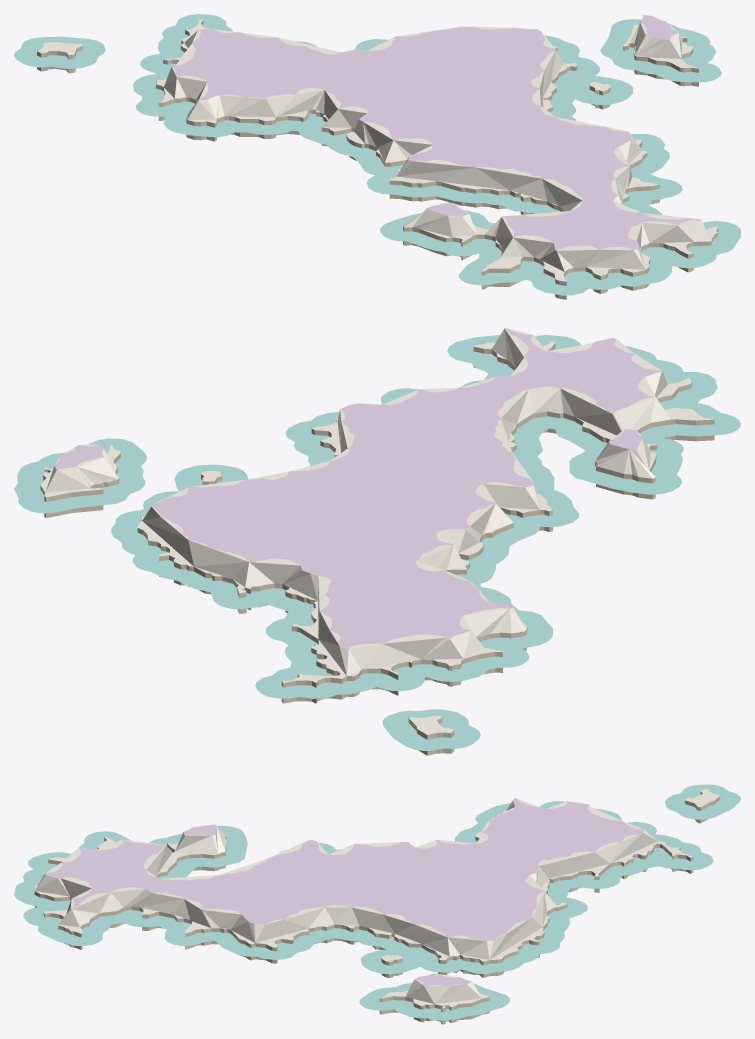
Rendered from mayotte.glb.
3 views of the same model, one above another, from view 1: azimuth 30°, elevation 25°; view 2: azimuth 150°, elevation 25°; view 3: azimuth 270°, elevation 25° (orthographic). The views are drawn at different scales.
Visible parts, largest first — view 1: terre, lagon, plage, falaise; view 2: terre, lagon, plage, falaise; view 3: terre, plage, lagon, falaise.
Part boxes in pixels (x1=…): terre: x1=172, y1=15, x2=700, y2=250; lagon: x1=14, y1=14, x2=740, y2=295; plage: x1=37, y1=15, x2=717, y2=281; falaise: x1=37, y1=20, x2=718, y2=299; terre: x1=54, y1=328, x2=661, y2=648; lagon: x1=14, y1=335, x2=740, y2=750; plage: x1=40, y1=328, x2=713, y2=734; falaise: x1=40, y1=342, x2=714, y2=755; terre: x1=45, y1=798, x2=643, y2=986; plage: x1=34, y1=789, x2=719, y2=1008; lagon: x1=14, y1=784, x2=740, y2=1020; falaise: x1=34, y1=792, x2=720, y2=1024.
Bounding box in the file's own units: 0.8147 × 0.05 × 1.06.
